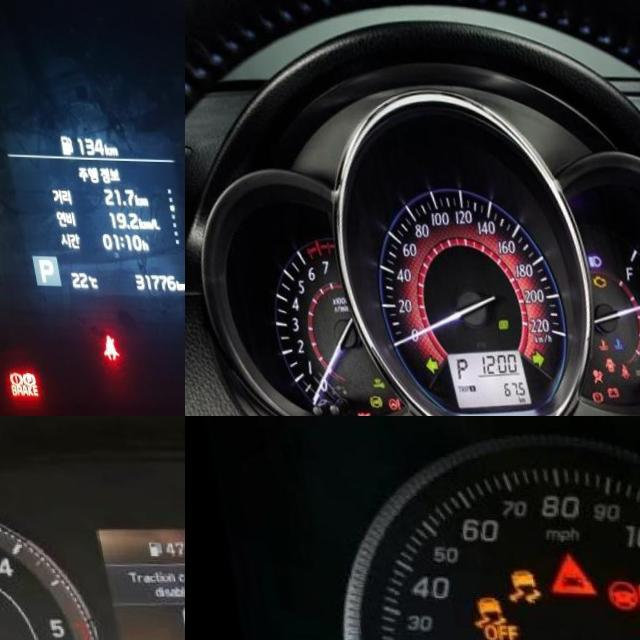Electronic Power Steering: (370, 397, 383, 409)
High Engine Coolant Temperature: (582, 335, 594, 349)
Seat Belt: (603, 361, 615, 377)
